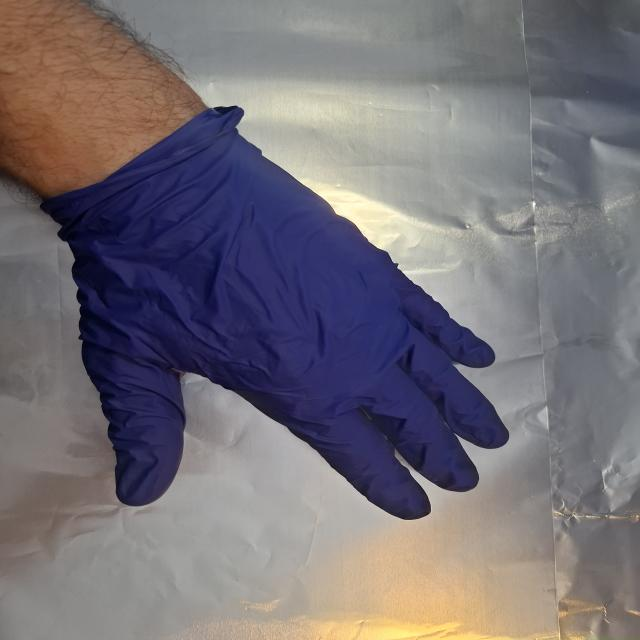glove_on: (34, 104, 514, 522)
